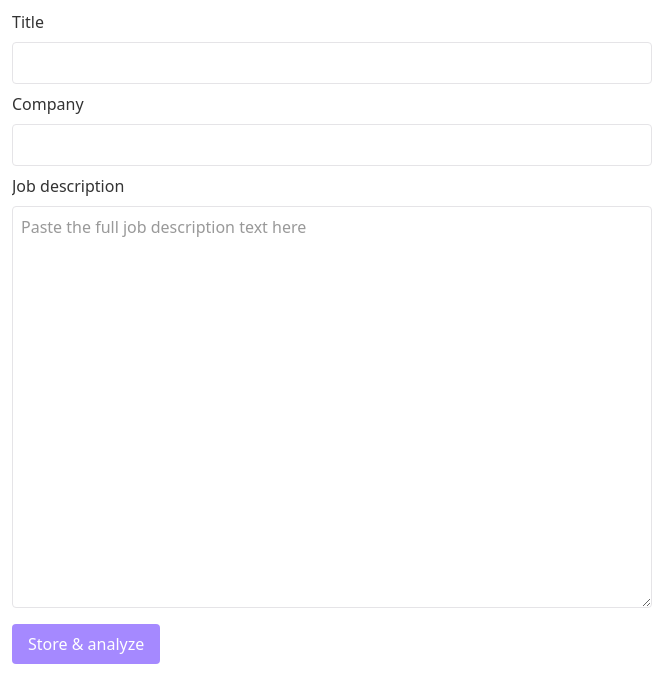
NewPosting form › shows an error and re-enables the form when storing fails
The image size is (669, 694).
Type "Some JD text" into the text box labelled "Job description" at (332, 407), box [12,206,652,608]
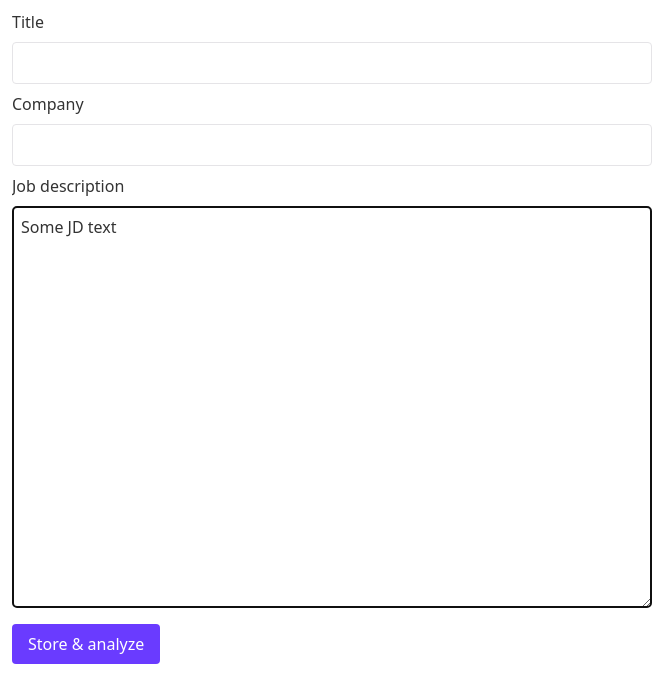
Click the button "Store & analyze" at (86, 644), box [12,624,160,664]
(page scrolled)
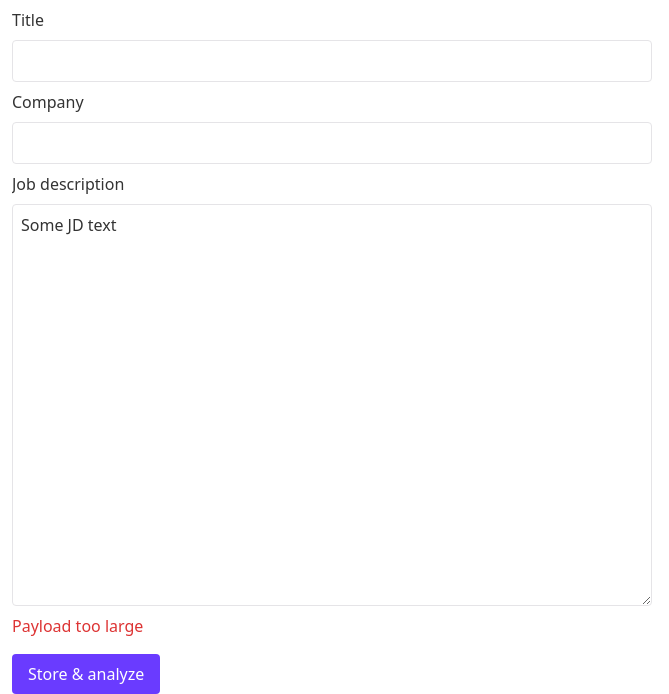
Expected: the button "Store & analyze" is enabled, [12,654,160,693]
Expected: the message reads "Payload too large", [12,615,143,637]
